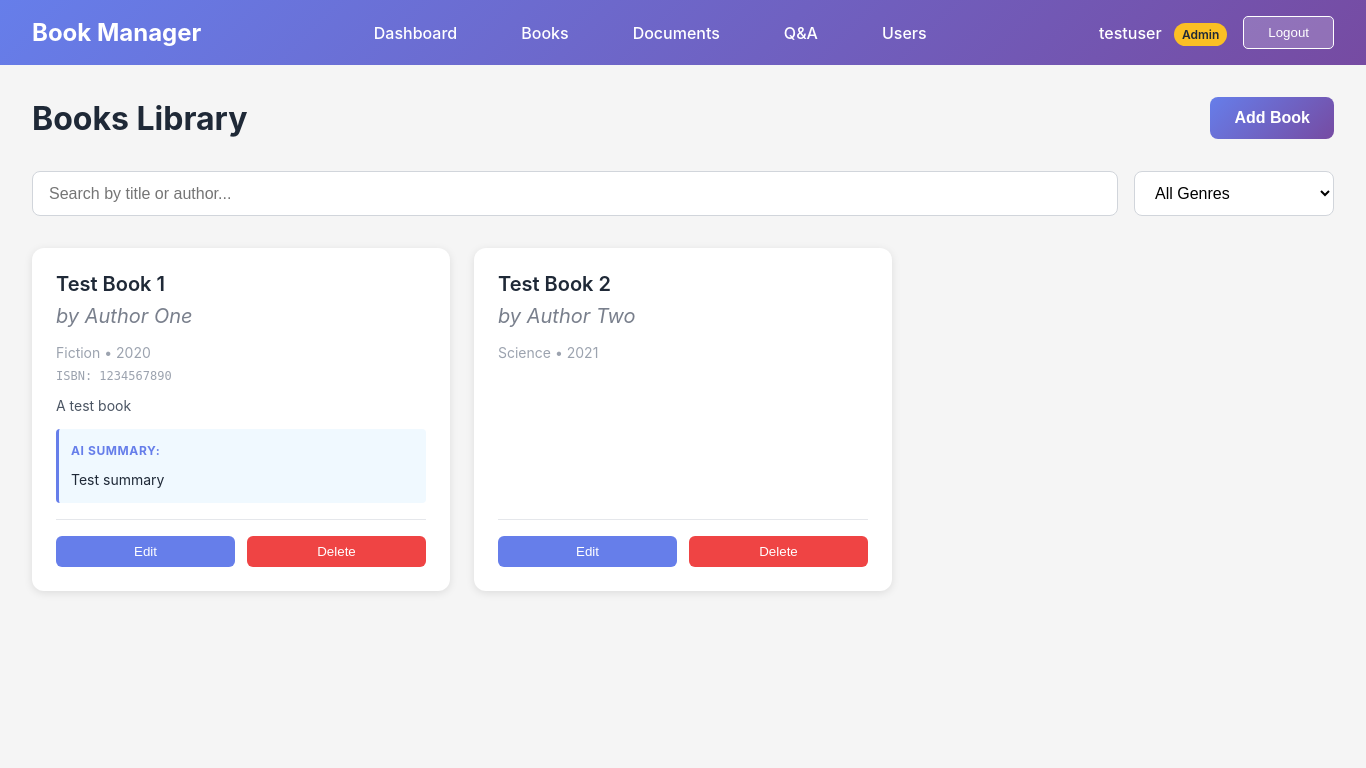
Scenario: Books Component › Add book modal › should open add book modal when Add Book button is clicked
Click the button "Add Book".
click(1272, 118)  # box 1210,97 -> 1334,139
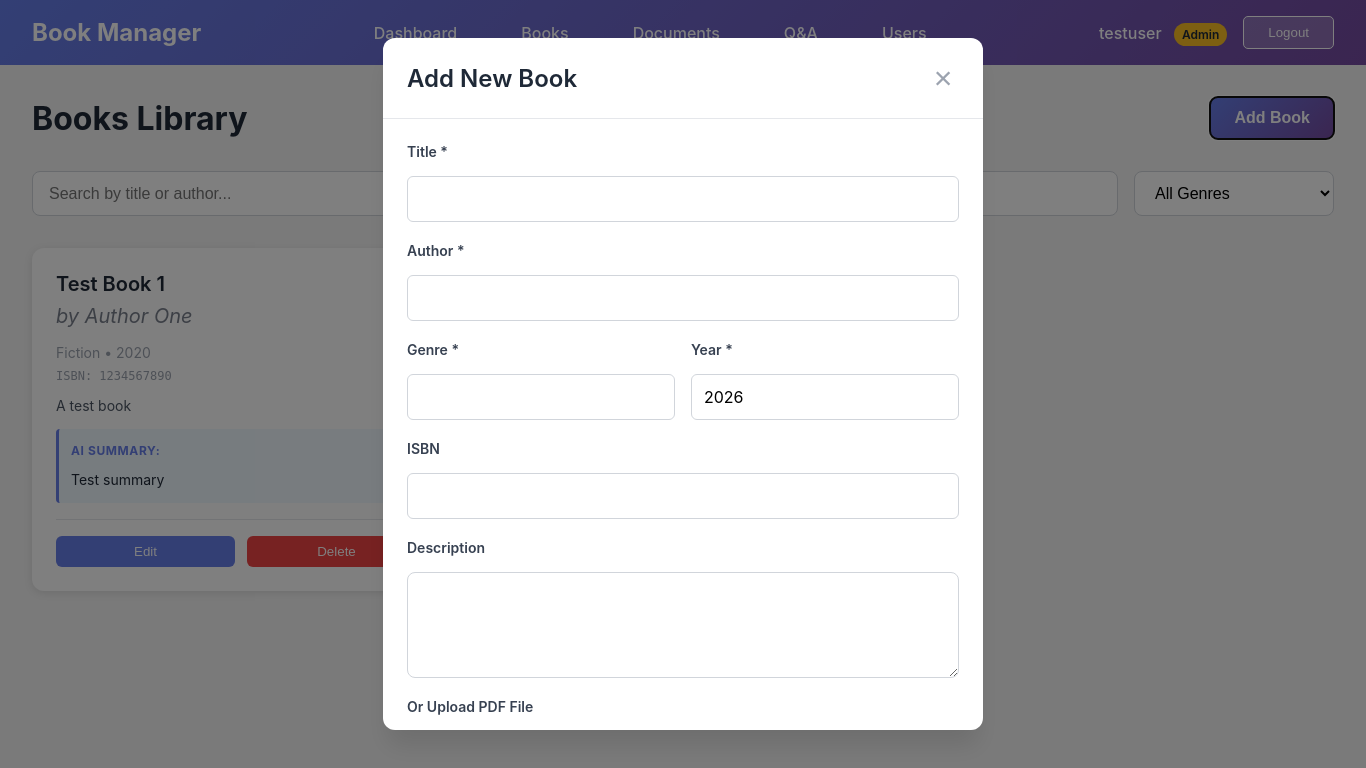
Expected: the heading "Add New Book" is shown, 407,64 -> 577,93
Expected: the field labelled "Title *" is shown, 407,176 -> 959,222
Expected: the field labelled "Author *" is shown, 407,275 -> 959,321
